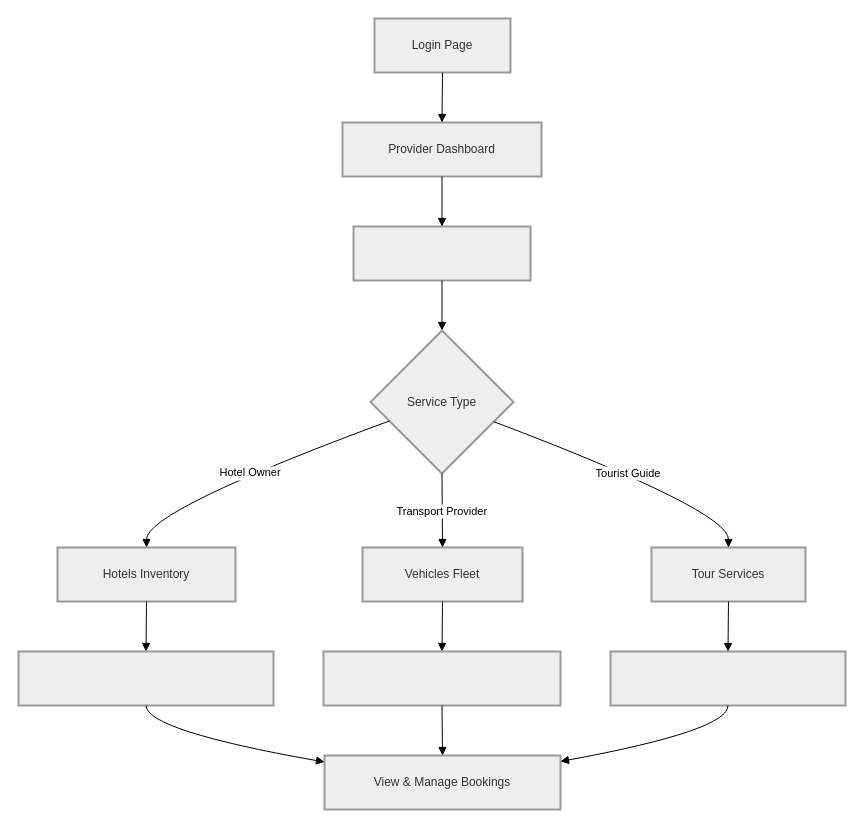
This 863x827 diagram has some shape labels left out. The centre of each missing label's shape, as x and y in pixels:
"Manage Services" goes at (441,253).
"Update Availability & Rates" goes at (145,678).
"Update Fleet Availability" goes at (441,678).
"Update Slots & Schedule" goes at (727,678).
